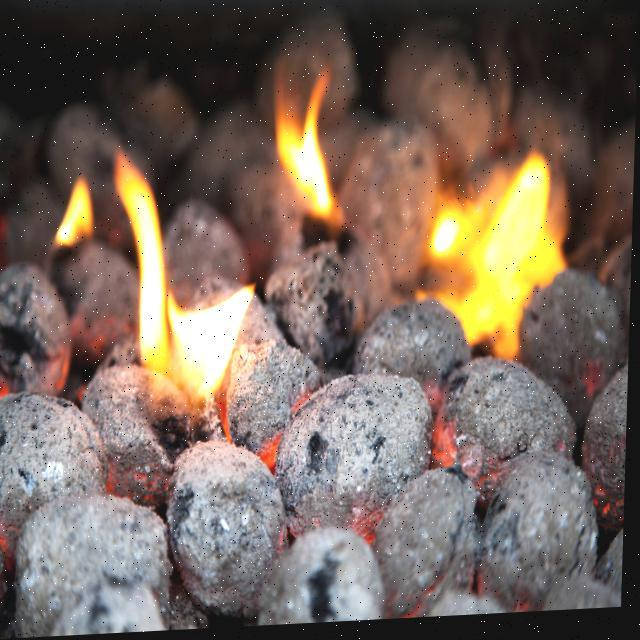Fire: (106, 145, 260, 410), (422, 155, 569, 367), (270, 71, 352, 234), (52, 163, 98, 258)
